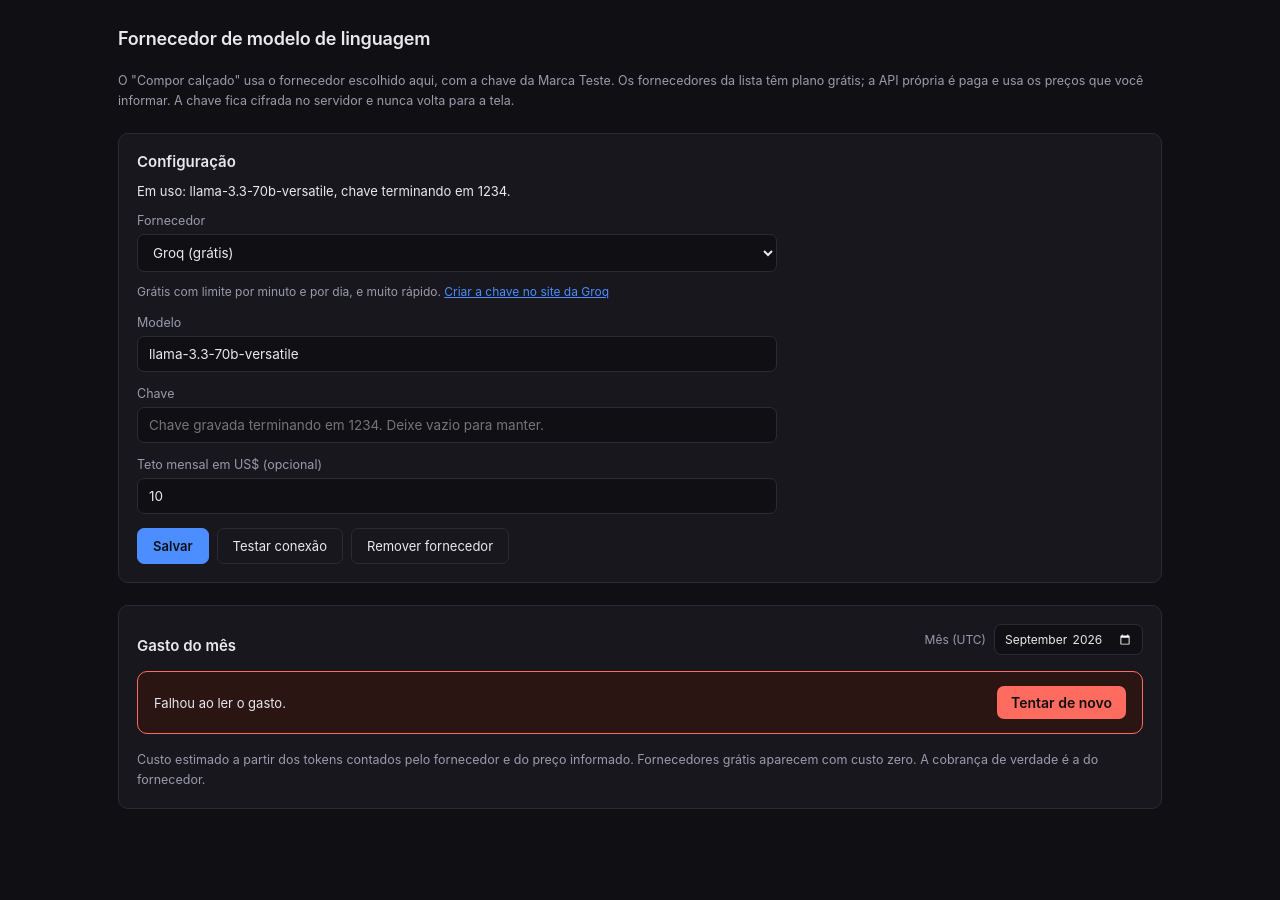
Test case: TelaDoFornecedor › erro ao ler o gasto dá um "Tentar de novo" que lê de novo
Click the button "Tentar de novo".
click(1062, 703)  # box [997,686,1126,719]
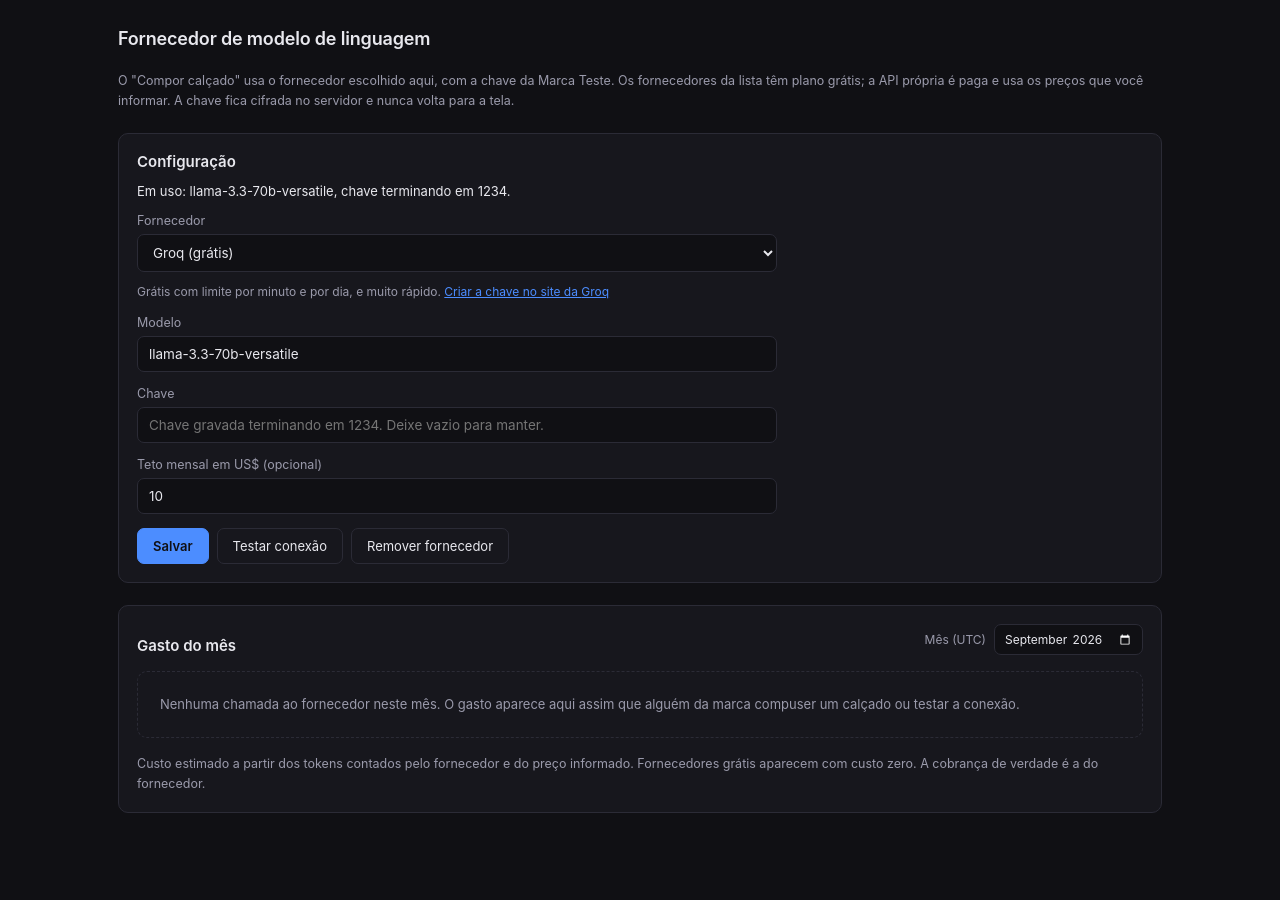
Result: the text "Nenhuma chamada ao fornecedor neste mês" is shown at [160,696,1020,712]
